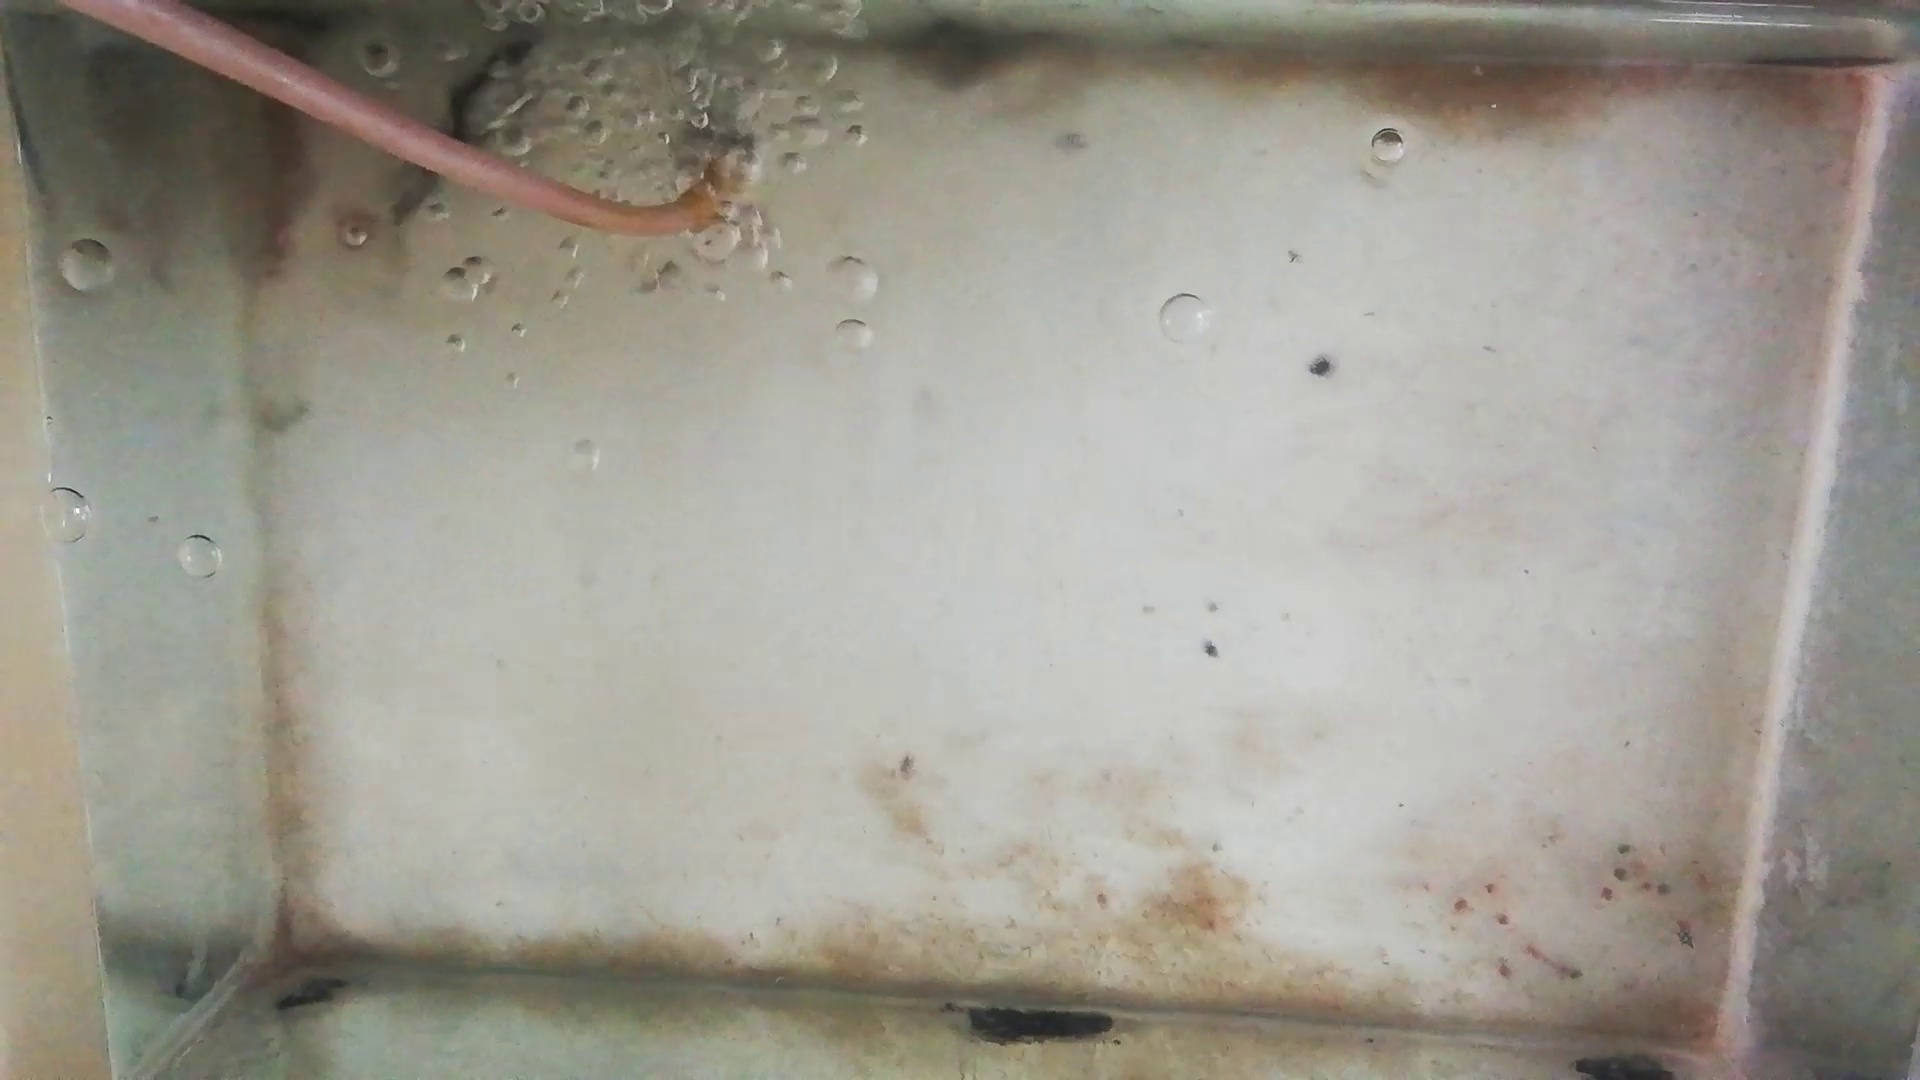fish: (392, 29, 530, 233), (248, 88, 305, 280)
